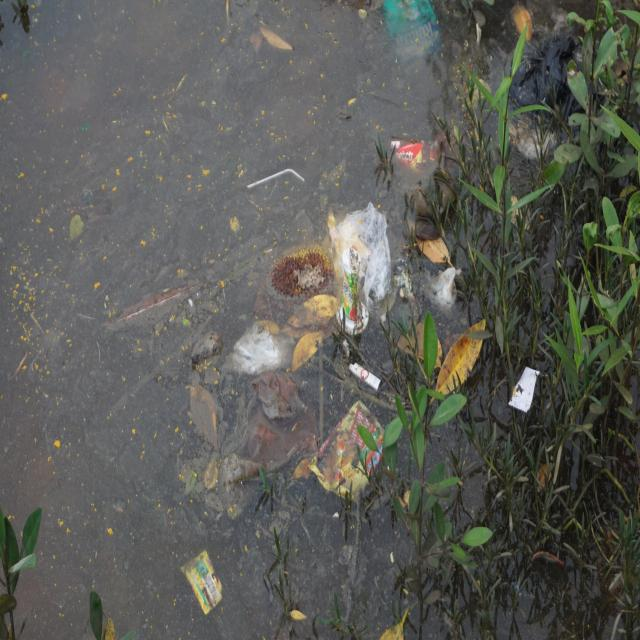Bungkus Makanan: (302, 393, 392, 510), (185, 550, 226, 619), (391, 126, 441, 173), (510, 364, 542, 417)
Bungkus Minuman: (338, 253, 371, 341)
Kantong Plastik: (225, 365, 315, 511), (507, 23, 583, 127), (330, 199, 397, 316)
